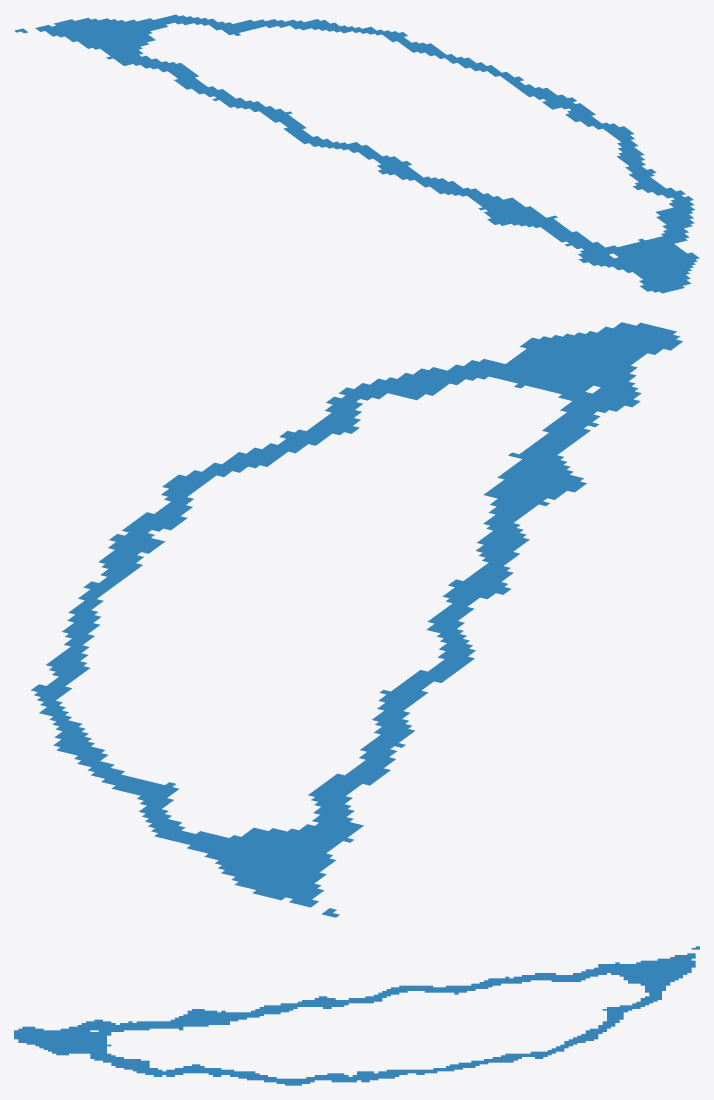
File: Isl-long2-PlaceForWaterObjects.fbx
3 views of the same model, one above another, from view 1: azimuth 30°, elevation 25°; view 2: azimuth 150°, elevation 25°; view 3: azimuth 270°, elevation 25° (orthographic). The views are drawn at different scales.
Parts seen in each view (by area): view 1: Isl-long2-PlaceForWaterObjects; view 2: Isl-long2-PlaceForWaterObjects; view 3: Isl-long2-PlaceForWaterObjects.
Part boxes in pixels (x1,y1,x2,y2): Isl-long2-PlaceForWaterObjects: [14, 14, 699, 293]; Isl-long2-PlaceForWaterObjects: [31, 322, 682, 917]; Isl-long2-PlaceForWaterObjects: [14, 946, 699, 1085].
Size of the model in its own units: 78 by 0 by 162.
